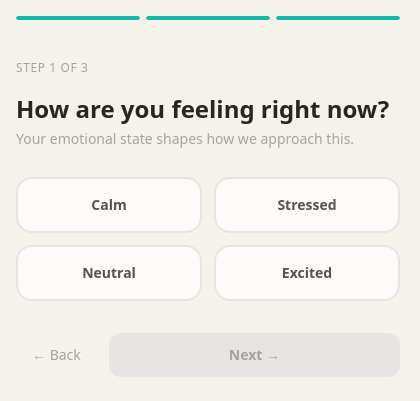
Test: PrechatScreen › selecting an option and clicking Next advances to step 2
The width and height of the screenshot is (420, 401).
Click the button "Calm". click: (109, 204)
box: [16,176,202,232]
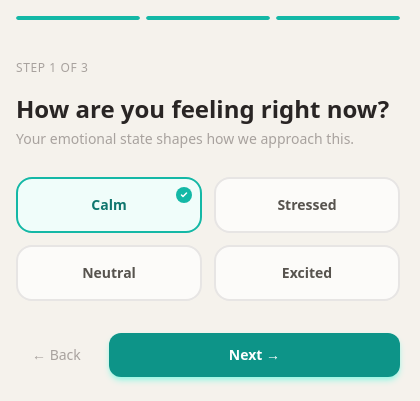
Click the button "Next →". click: (254, 354)
box: [109,332,400,376]
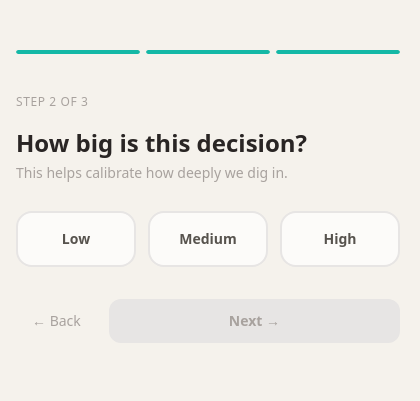
expect the heading "How big is this decision?" is shown: met, box [16,126,307,158]
expect the text "Step 2 of 3" is shown: met, box [16,92,88,110]
